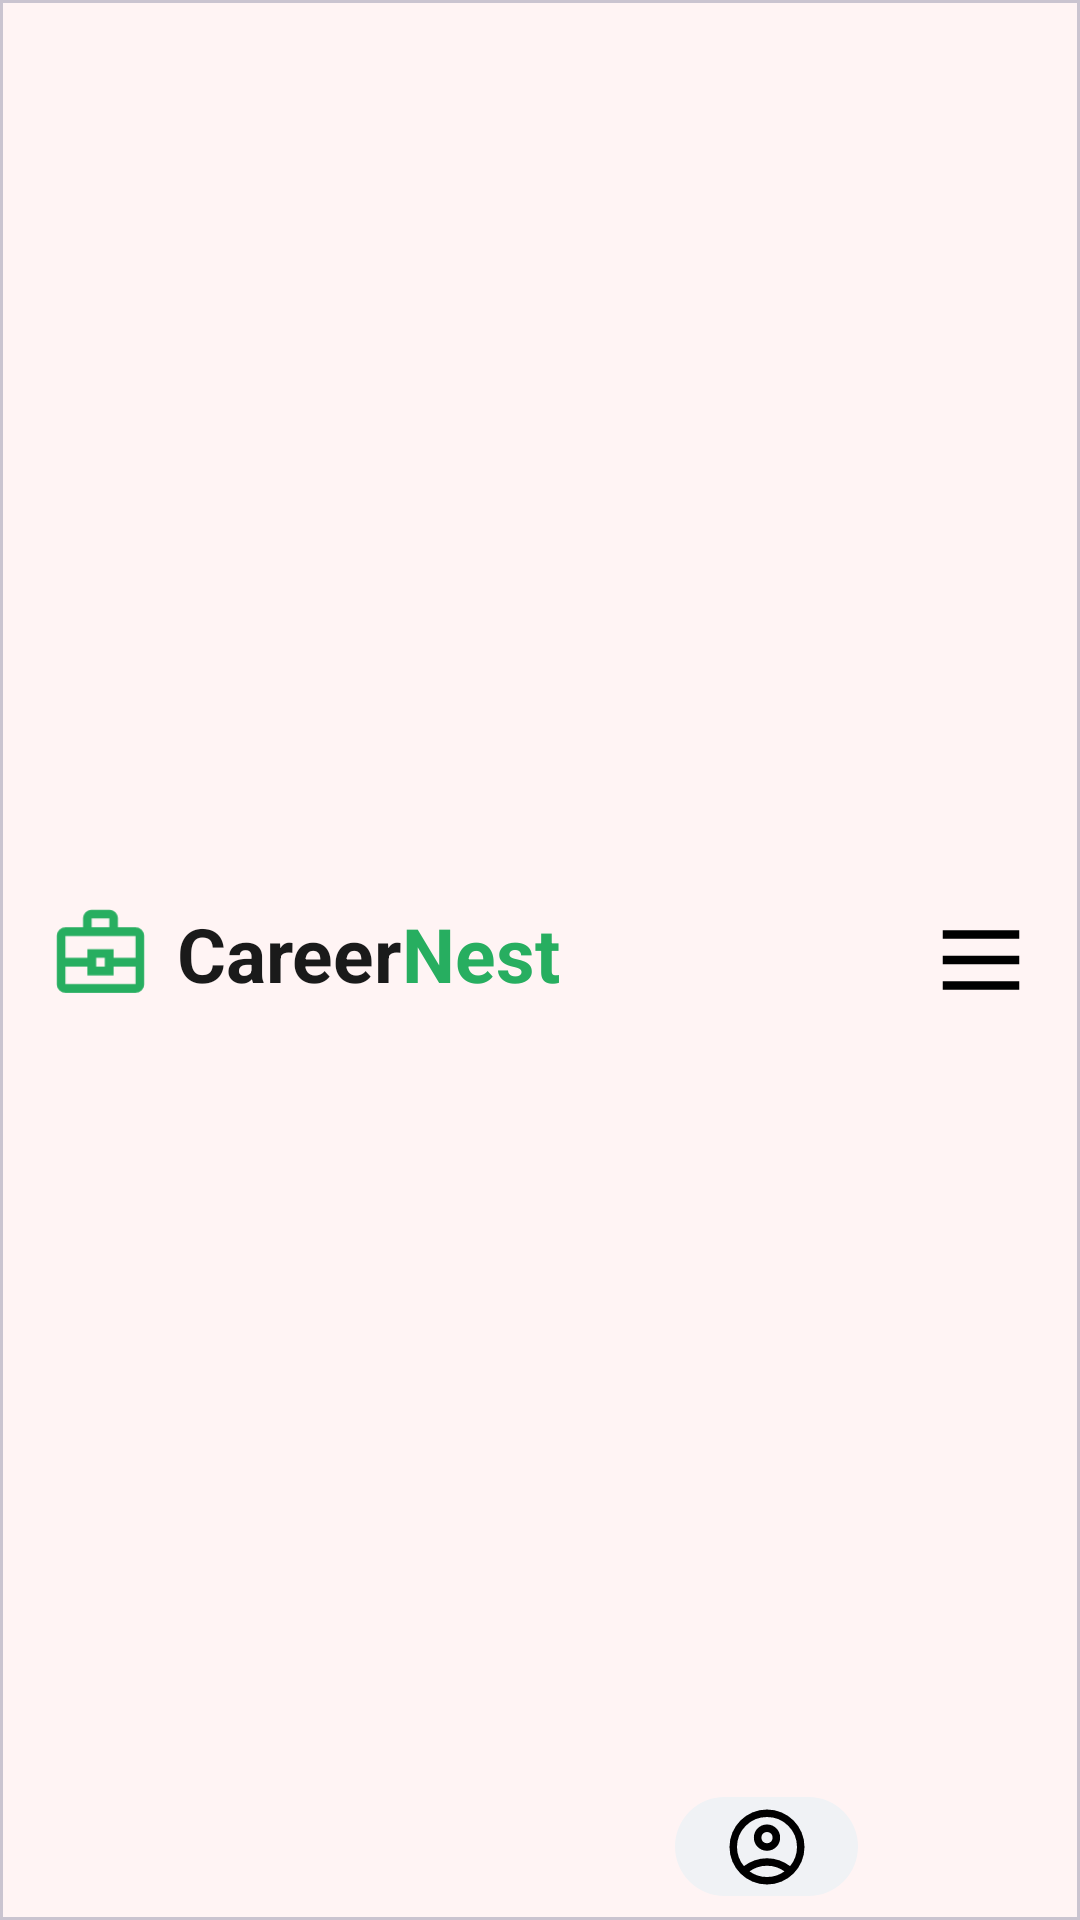

Icons on this 1080px x 1920px Android screen, each with the point to tap as (x=x, y=y):
briefcase: (x=100, y=951)
menu: (x=981, y=960)
